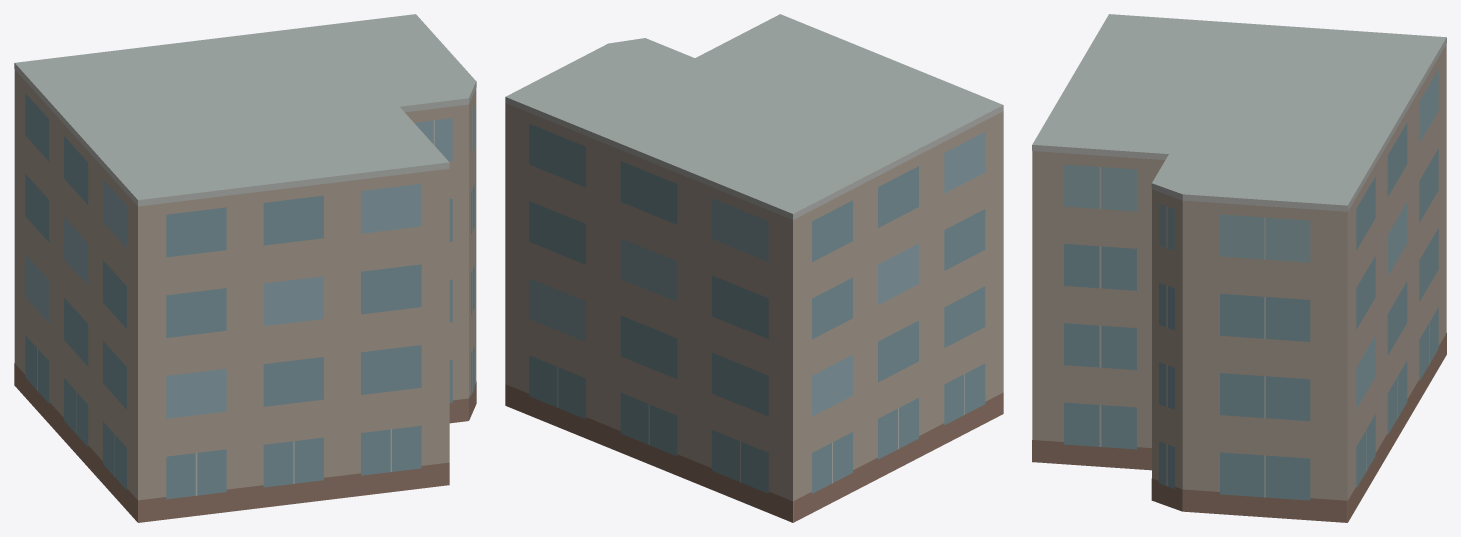
The model's file is survey-upis-32628199.glb.
3 renders of one model, left to right at view 1: azimuth 30°, elevation 25°; view 2: azimuth 150°, elevation 25°; view 3: azimuth 270°, elevation 25°, orthographic. The views are drawn at different scales.
Visible parts, largest first — view 1: survey-upis-32628199.tmp; view 2: survey-upis-32628199.tmp; view 3: survey-upis-32628199.tmp.
Part boxes in pixels (x1,y1,x2,y2): survey-upis-32628199.tmp: (14,14,476,522); survey-upis-32628199.tmp: (505,14,1003,522); survey-upis-32628199.tmp: (1032,14,1446,522).
Size of the model in its own units: 16.2 by 12.5 by 14.82.
